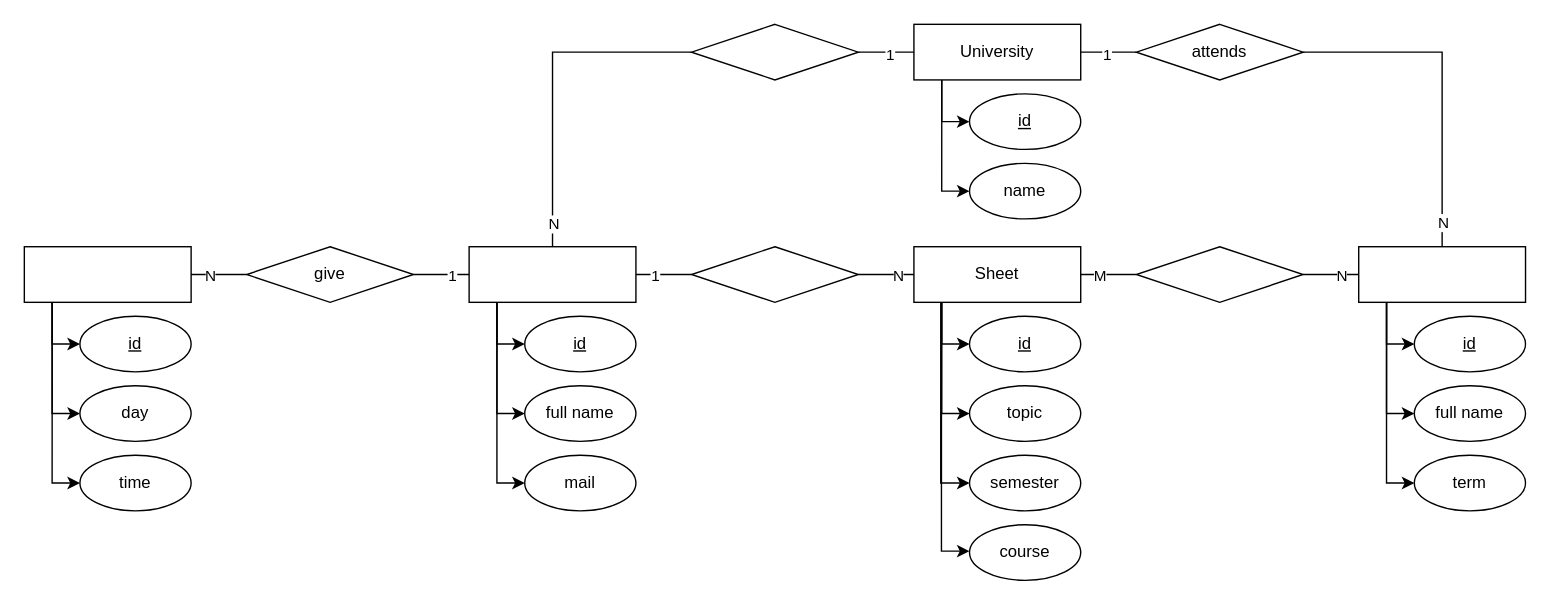
The diagram is 1550 pixels wide and 605 high, and some of its shapes have lost their labels. Each missing label, with the centre of its shape:
correct: pixel 774 273
employs: pixel 774 51
Student: pixel 1441 273
submit: pixel 1219 273
Tutor: pixel 552 273
Tutorial: pixel 107 273
